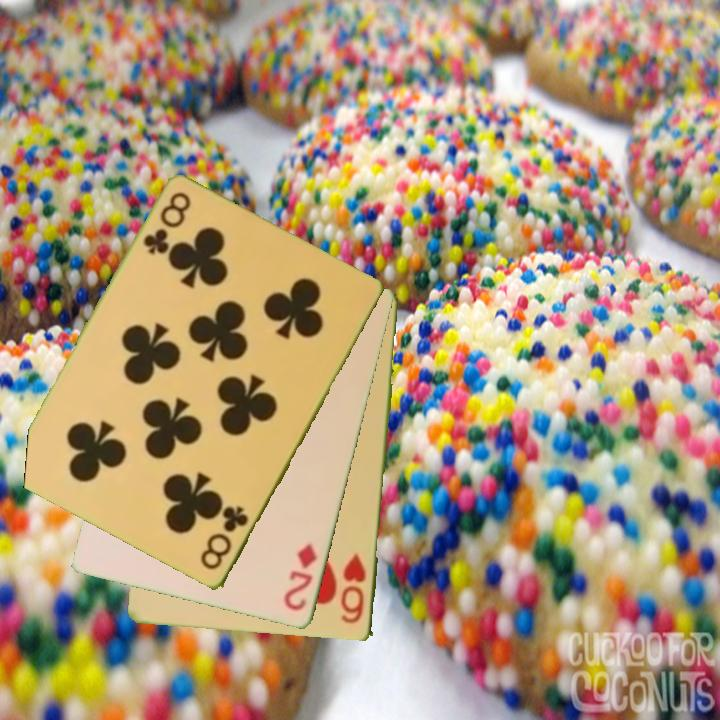2d: (280, 540, 320, 614)
6h: (337, 550, 369, 627)
8c: (197, 503, 252, 574), (140, 189, 194, 259)
